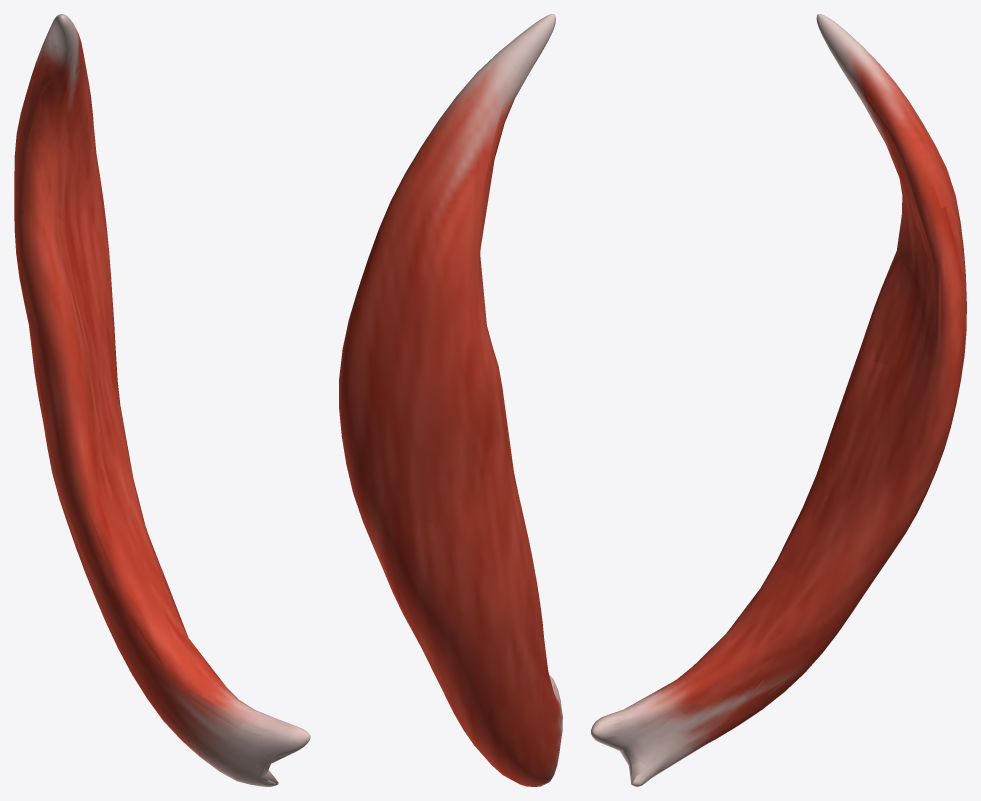
Rendered from L Semimembranosus.fbx.
The picture shows the model from 3 angles, left to right: view 1: azimuth 30°, elevation 25°; view 2: azimuth 150°, elevation 25°; view 3: azimuth 270°, elevation 25°; orthographic projection. The views are drawn at different scales.
Parts seen in each view (by area): view 1: L Semimembranosus, L Semimembranosus low; view 2: L Semimembranosus, L Semimembranosus low; view 3: L Semimembranosus, L Semimembranosus low.
Boxes of the visible parts, left/top/right/bottom form: L Semimembranosus: left=14, top=14, right=310, bottom=786; L Semimembranosus low: left=14, top=27, right=296, bottom=786; L Semimembranosus: left=339, top=14, right=562, bottom=786; L Semimembranosus low: left=339, top=44, right=561, bottom=776; L Semimembranosus: left=591, top=14, right=966, bottom=786; L Semimembranosus low: left=599, top=52, right=961, bottom=783.
Bounding box in the file's own units: 12.71 × 64.96 × 30.87.
